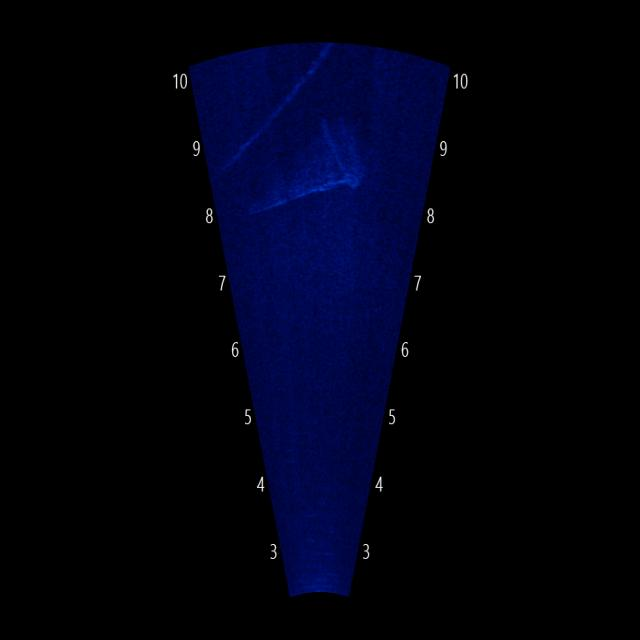triangle: (240, 108, 372, 226)
